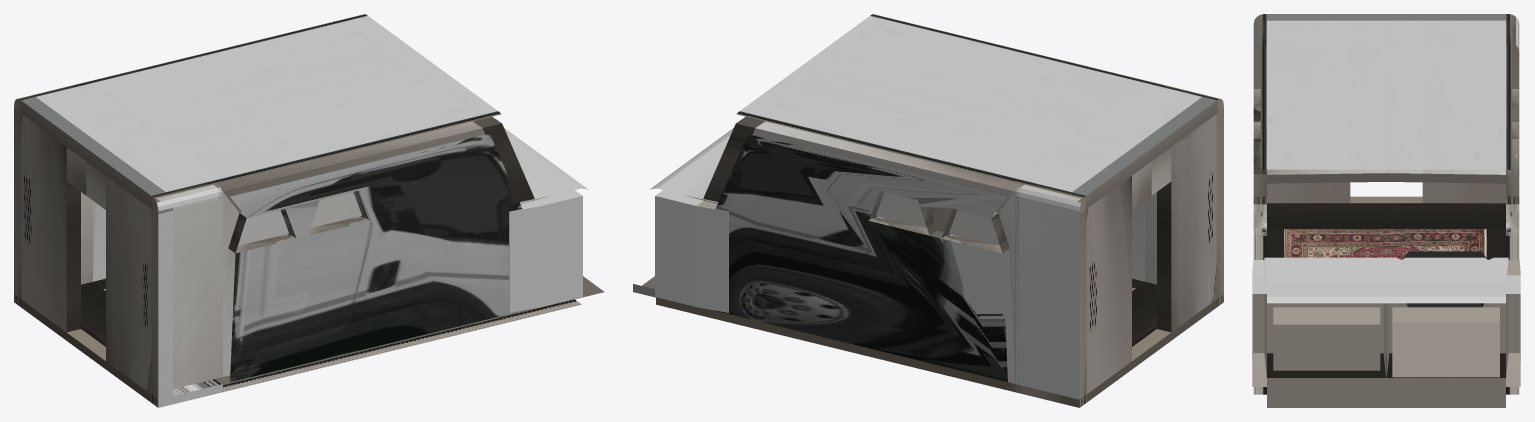
The model's file is Cabin.fbx.
The picture shows the model from 3 angles, left to right: view 1: azimuth 30°, elevation 25°; view 2: azimuth 150°, elevation 25°; view 3: azimuth 270°, elevation 25°; orthographic projection. The views are drawn at different scales.
Parts seen in each view (by area): view 1: Cabin; view 2: Cabin; view 3: Cabin.
Part boxes in pixels (<box>): Cabin: <box>14,14,604,407</box>; Cabin: <box>633,14,1223,407</box>; Cabin: <box>1252,14,1520,407</box>.
Size of the model in its own units: 2900 by 1265 by 1617.
